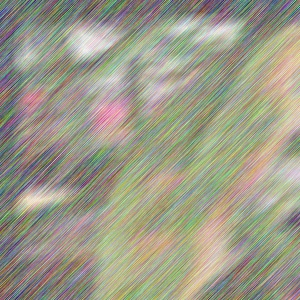Leaf_Blast: (110, 94, 234, 300)
